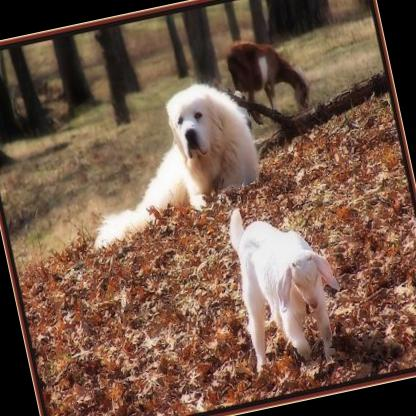Great_Pyrenees: (62, 72, 270, 252)
